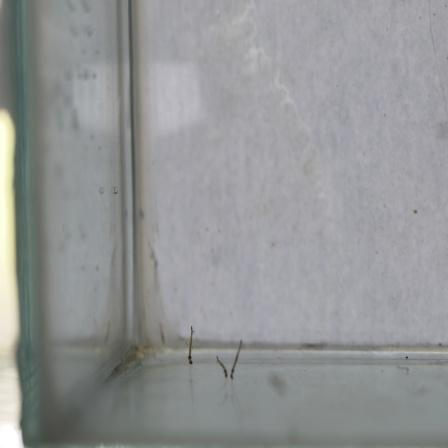Jentik-Nyamuk: (214, 335, 245, 382), (185, 321, 197, 368)
